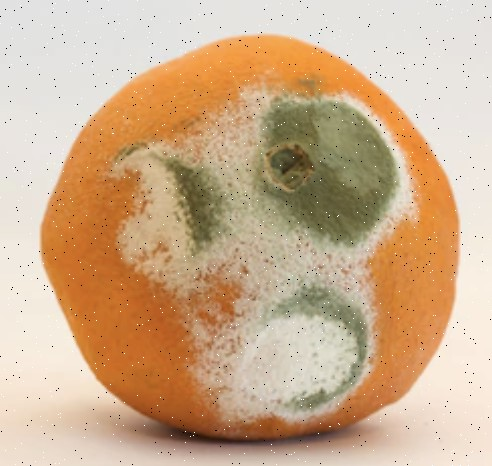rotten_orange: (41, 35, 461, 439)
